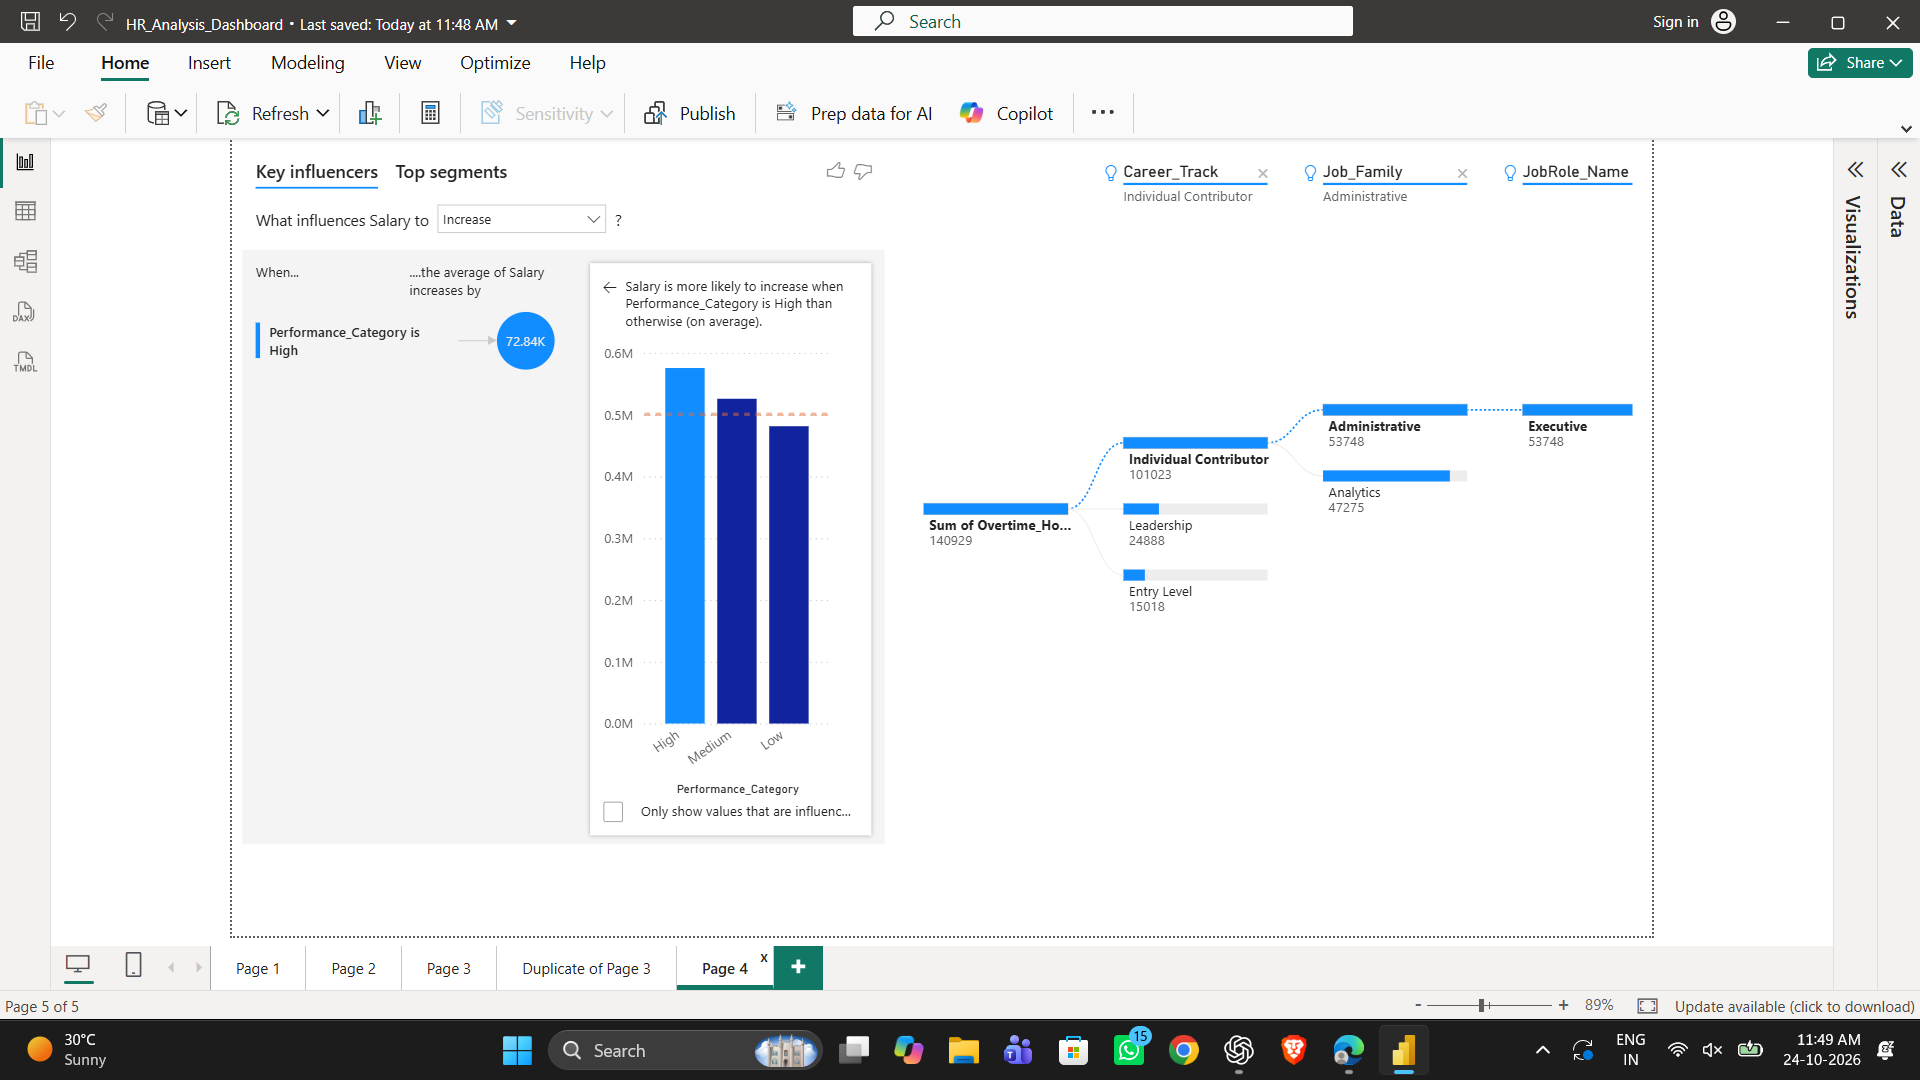

The page's visual inventory and layout, read from the dashboard file:
{"tool":"powerbi","page":{"name":"Page 4","canvas":[1280,720],"ordinal":4},"visuals":[{"type":"keyDriversVisual","fields":{"Target":["HR_Fact.Salary"],"ExplainBy":["HR_Fact.Performance_Category"]},"box":[4.5,6.1,589,636],"z":0},{"type":"decompositionTreeVisual","fields":{"Analyze":["Sum(HR_Fact.Overtime_Hours)"],"ExplainBy":["Dim_JobRole.Career_Track","Dim_JobRole.Job_Family","Dim_JobRole.JobRole_Name"]},"box":[593.6,6.1,673.8,636],"z":1000}]}

Visuals, with their boxes on the page's 1280x720 design canvas (x1, y1, x2, y2). These are canvas units, not pixel positions in the 1920x1080 screenshot, which may show the page scaled, cropped or inside an application window:
keyDriversVisual - HR_Fact.Salary x HR_Fact.Performance_Category: region(4, 6, 594, 642)
decompositionTreeVisual - Sum(HR_Fact.Overtime_Hours) x Dim_JobRole.Career_Track: region(594, 6, 1267, 642)
